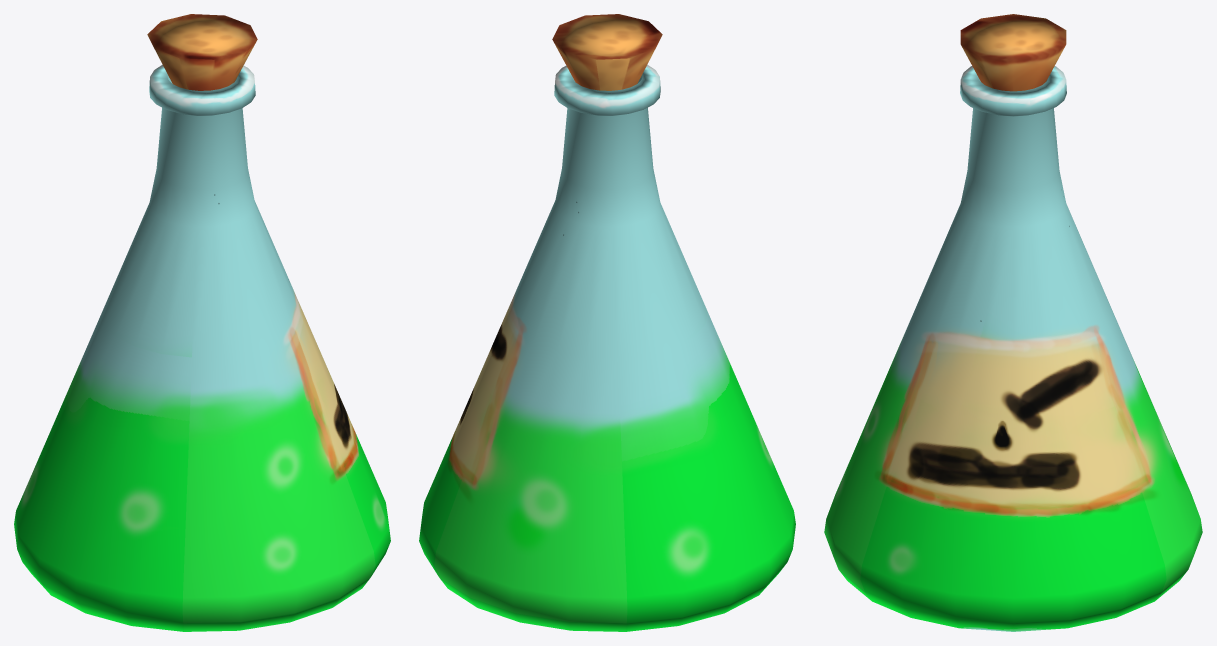
File: AcidBomb.fbx
3 views of the same model, side by side, from view 1: azimuth 30°, elevation 25°; view 2: azimuth 150°, elevation 25°; view 3: azimuth 270°, elevation 25° (orthographic).
Visible parts, largest first — view 1: Flask, Stopper; view 2: Flask, Stopper; view 3: Flask, Stopper.
Boxes of the visible parts, <box> form: Flask: <box>14,65,390,631</box>; Stopper: <box>147,14,257,90</box>; Flask: <box>419,65,795,631</box>; Stopper: <box>552,14,662,90</box>; Flask: <box>824,66,1202,631</box>; Stopper: <box>960,14,1066,91</box>.
Bounding box in the file's own units: 14.47 × 21.97 × 14.47.
